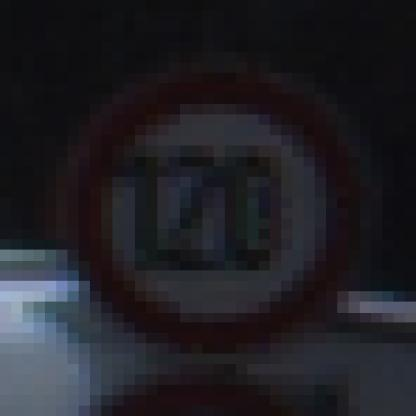Speed Limit 120: (75, 70, 350, 349)
